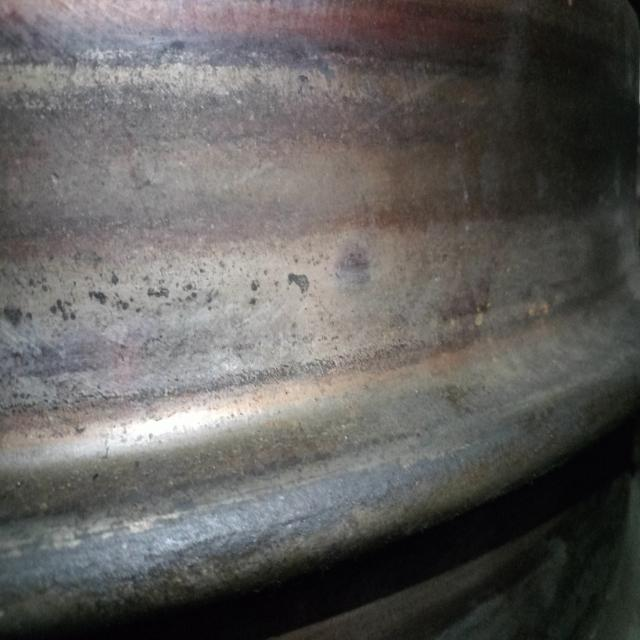Contact_Fatigue_Cracks: (263, 40, 465, 90)
Peeling: (322, 216, 390, 310)
